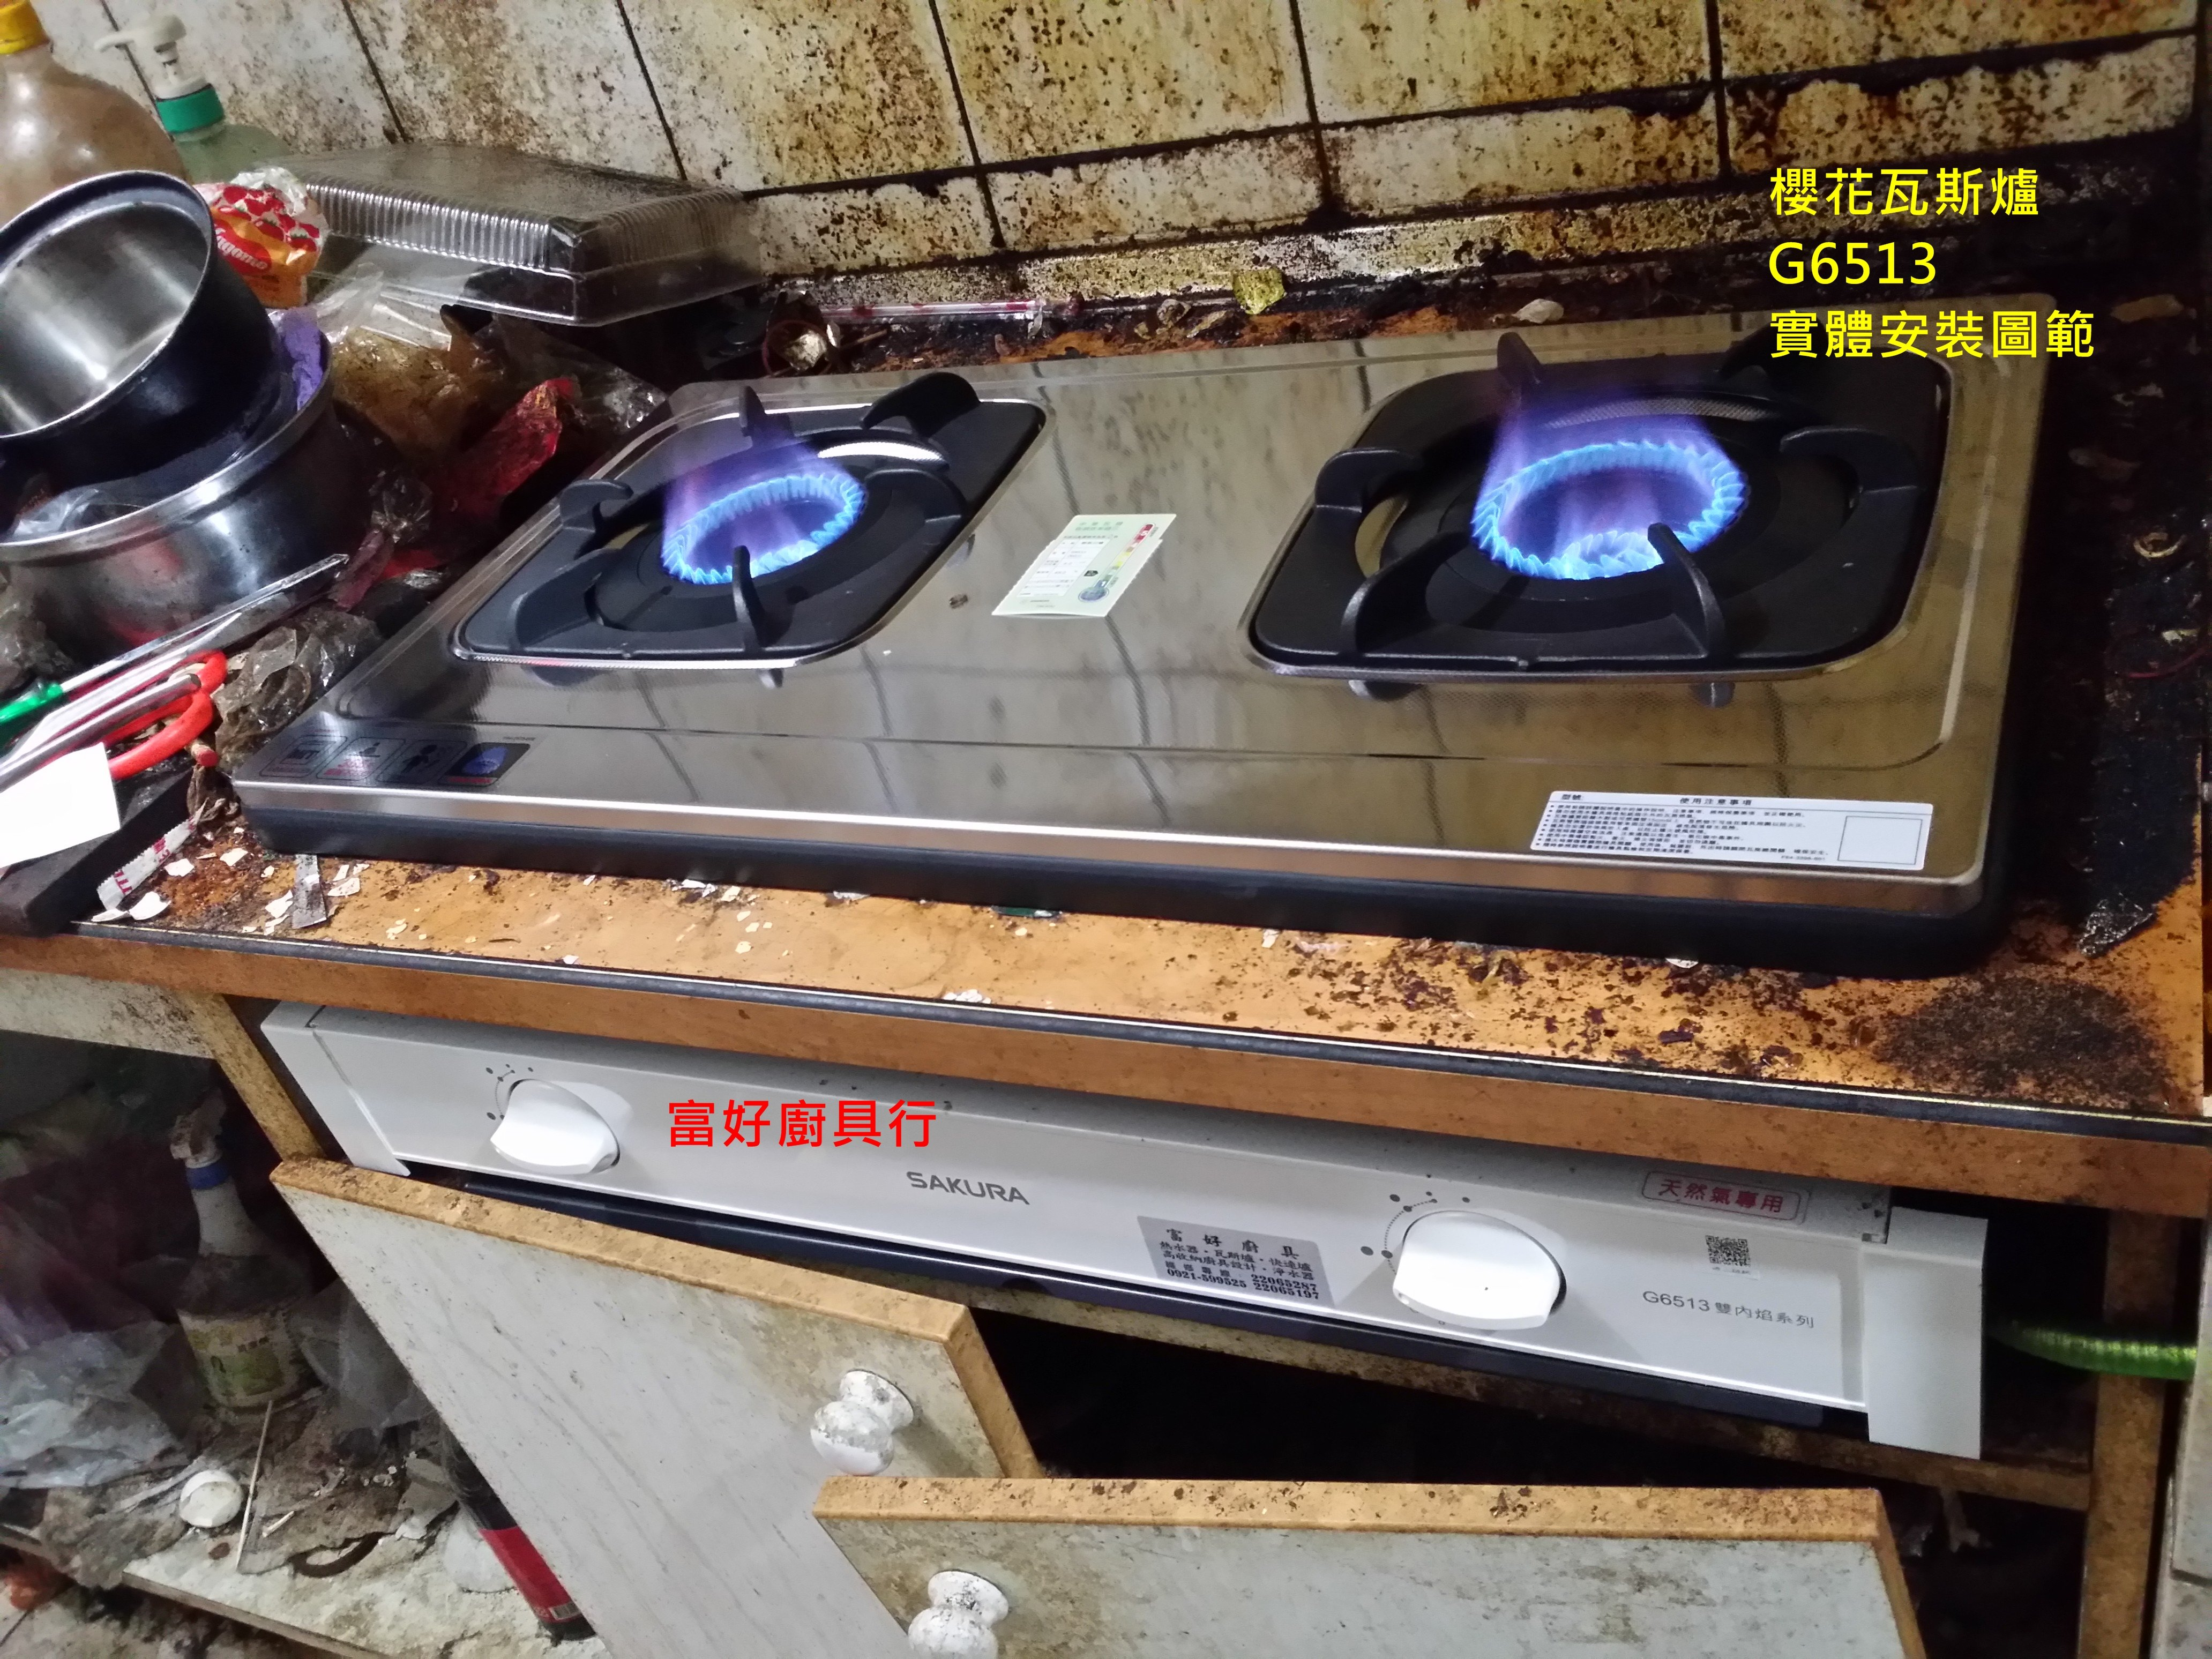gasoven: (230, 314, 2043, 932)
